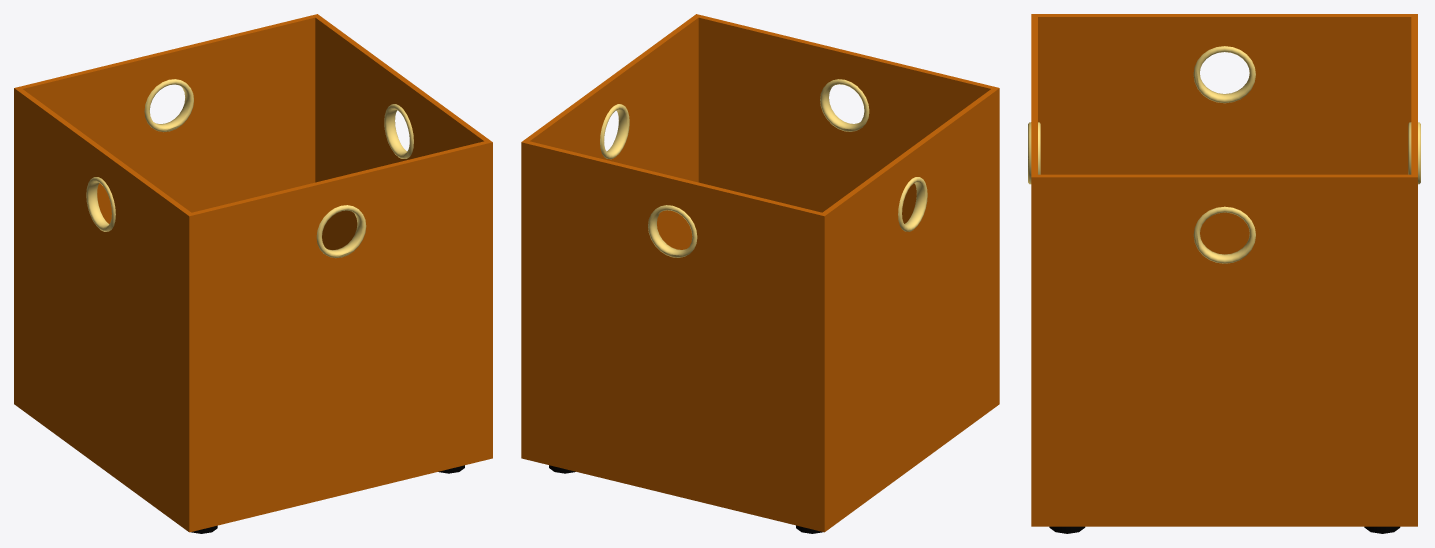
File: mymodel.dae
3 renders of one model, left to right at view 1: azimuth 30°, elevation 25°; view 2: azimuth 150°, elevation 25°; view 3: azimuth 270°, elevation 25°, orthographic. The views are drawn at different scales.
Parts seen in each view (by area): view 1: group_9 (×2), group_8, group_1; view 2: group_9 (×2), group_1, group_8; view 3: group_9 (×2), group_0 (×2), group_7 (×2).
Part boxes in pixels (x1,y1,x2,y2): group_9 (×2): (14, 14, 492, 532); group_8: (316, 205, 366, 258); group_1: (144, 79, 193, 132); group_9 (×2): (521, 14, 999, 532); group_1: (648, 205, 697, 257); group_8: (820, 79, 869, 131); group_9 (×2): (1031, 14, 1417, 526); group_0 (×2): (1193, 46, 1255, 103); group_7 (×2): (1193, 206, 1255, 263).
Bounding box in the file's own units: 5.61 × 5.61 × 5.74.
